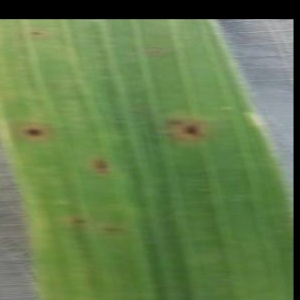Bacterial_Leaf_Blight: (17, 121, 52, 143), (86, 153, 116, 178), (175, 120, 206, 140), (101, 222, 128, 238), (162, 113, 186, 129), (69, 215, 92, 228), (26, 27, 47, 39)
